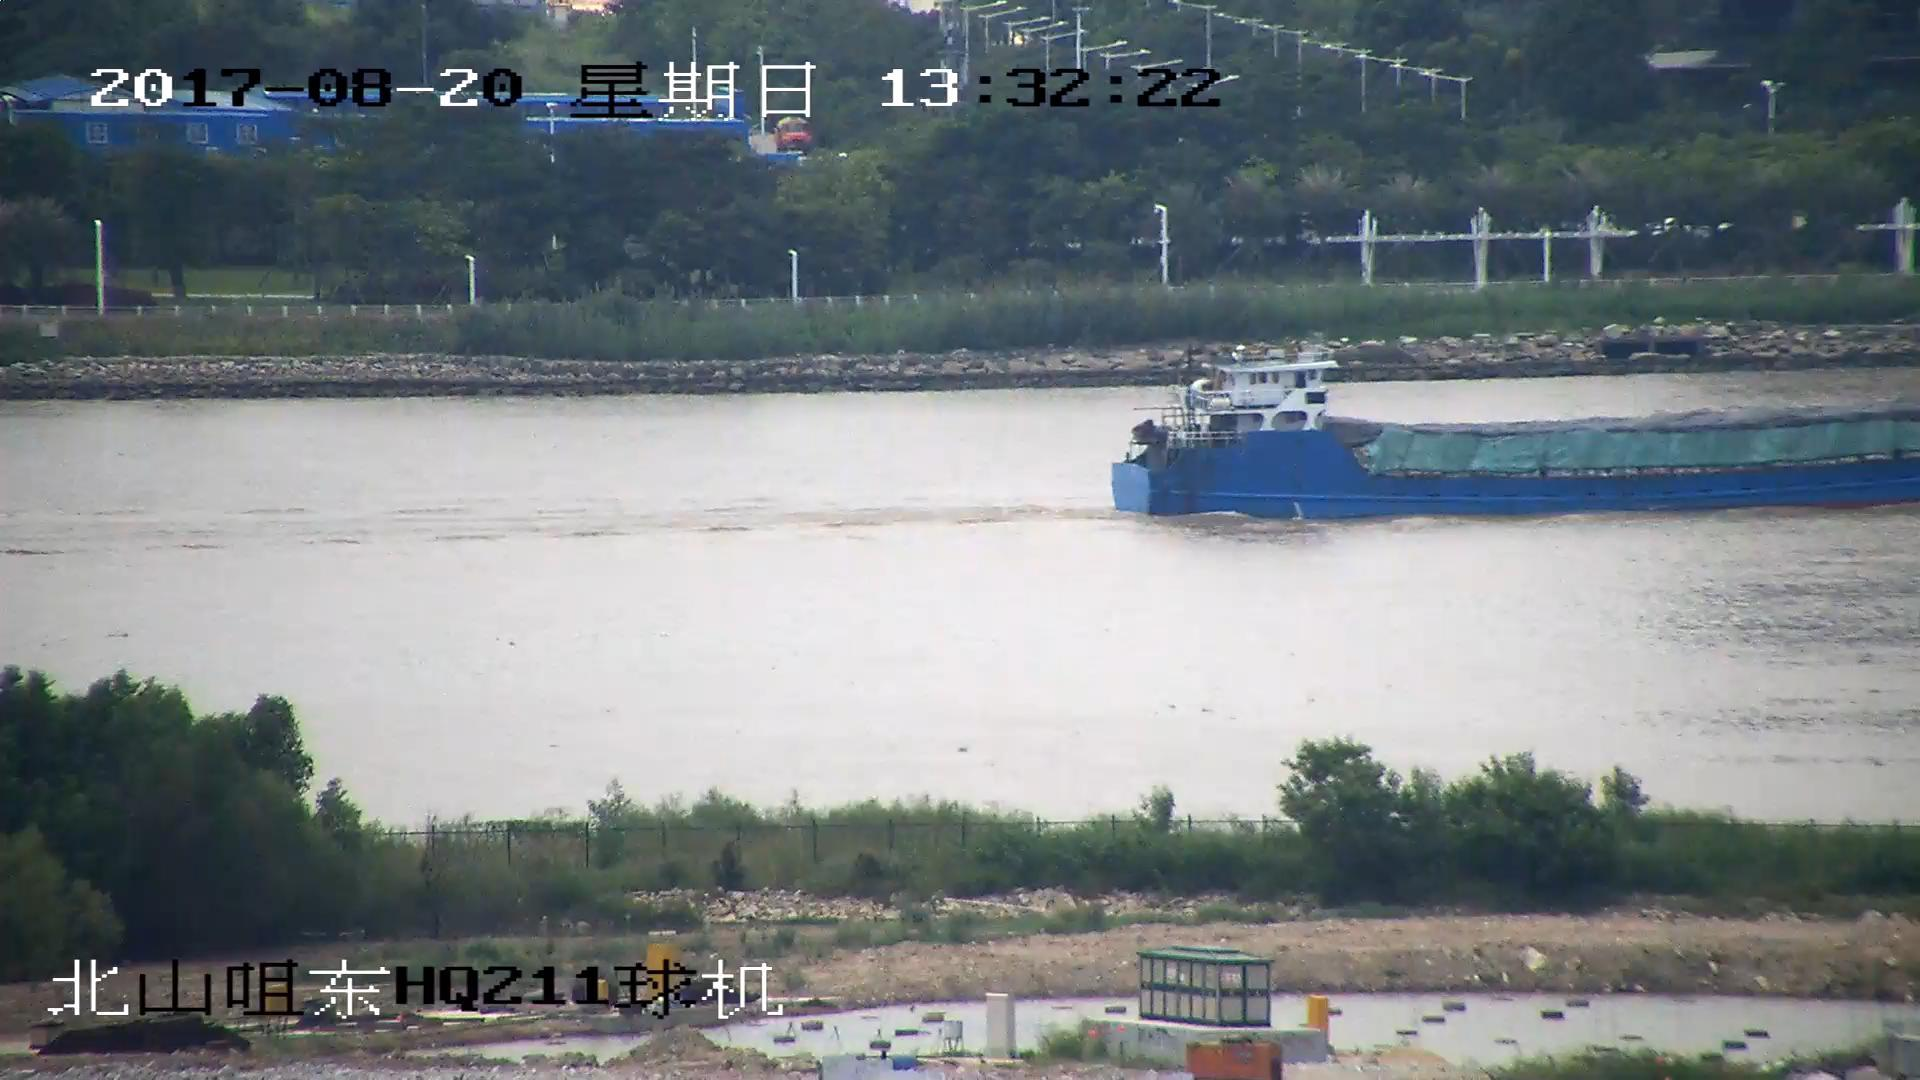Ship: (1112, 345, 1920, 510)
